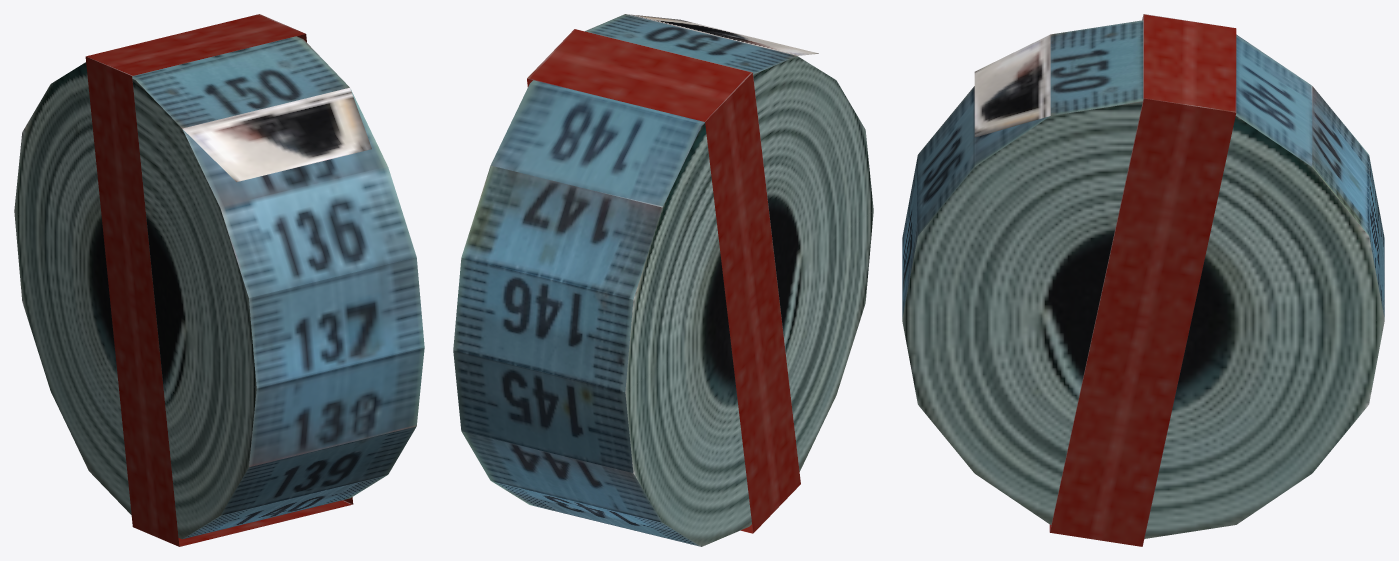
File: MeasuringTape.obj
3 views of the same model, side by side, from view 1: azimuth 30°, elevation 25°; view 2: azimuth 150°, elevation 25°; view 3: azimuth 270°, elevation 25° (orthographic). The views are drawn at different scales.
Visible parts, largest first — view 1: Cube_Cube.001; view 2: Cube_Cube.001; view 3: Cube_Cube.001.
Boxes of the visible parts, x1,y1,x2,y2 form: Cube_Cube.001: [14, 14, 424, 546]; Cube_Cube.001: [453, 14, 873, 546]; Cube_Cube.001: [902, 14, 1384, 546].
Size of the model in its own units: 0.8288 by 2.05 by 2.
1 material, 1 textured.
